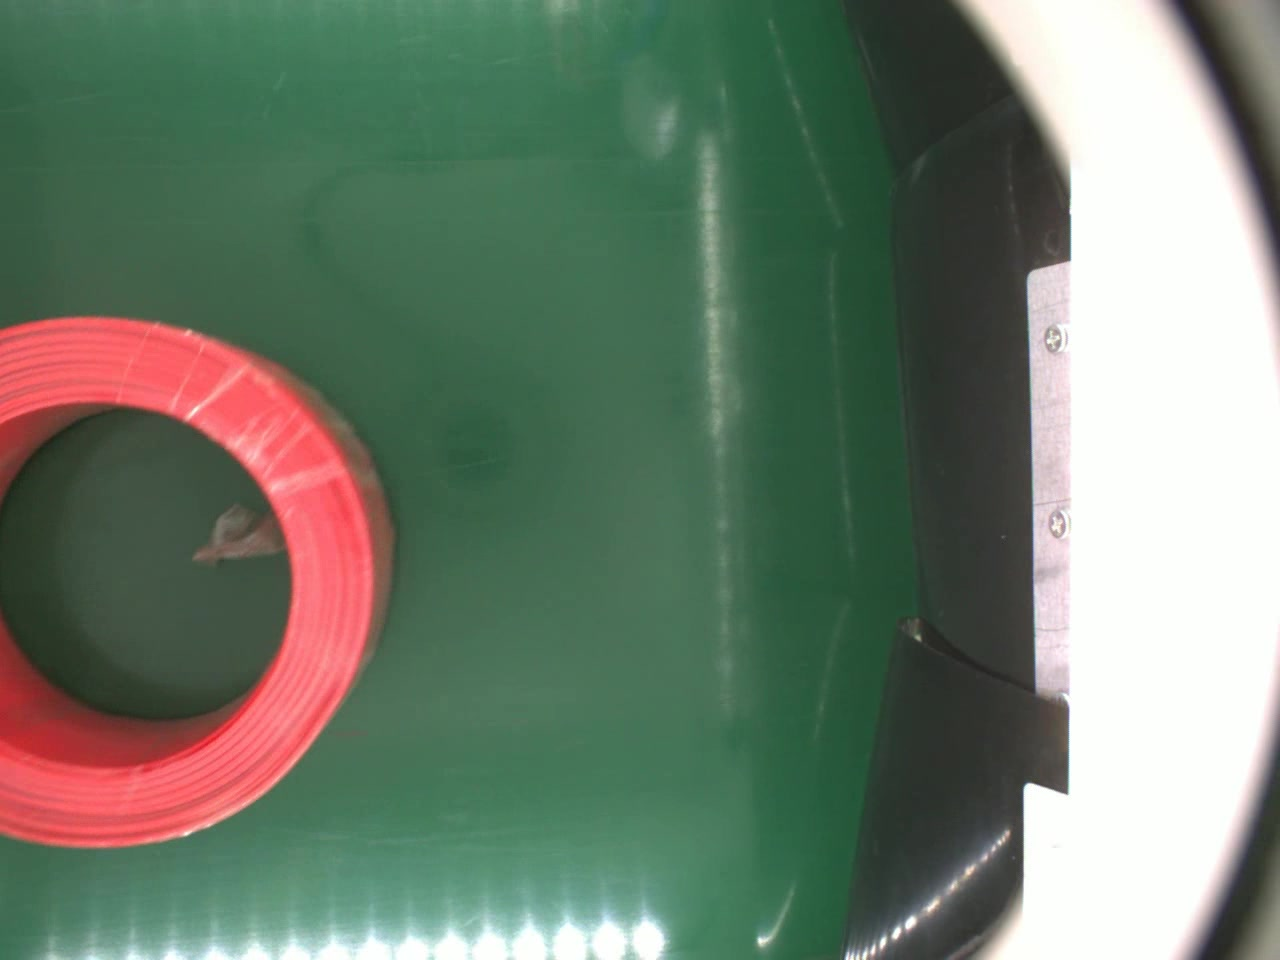red: (0, 310, 403, 847)
